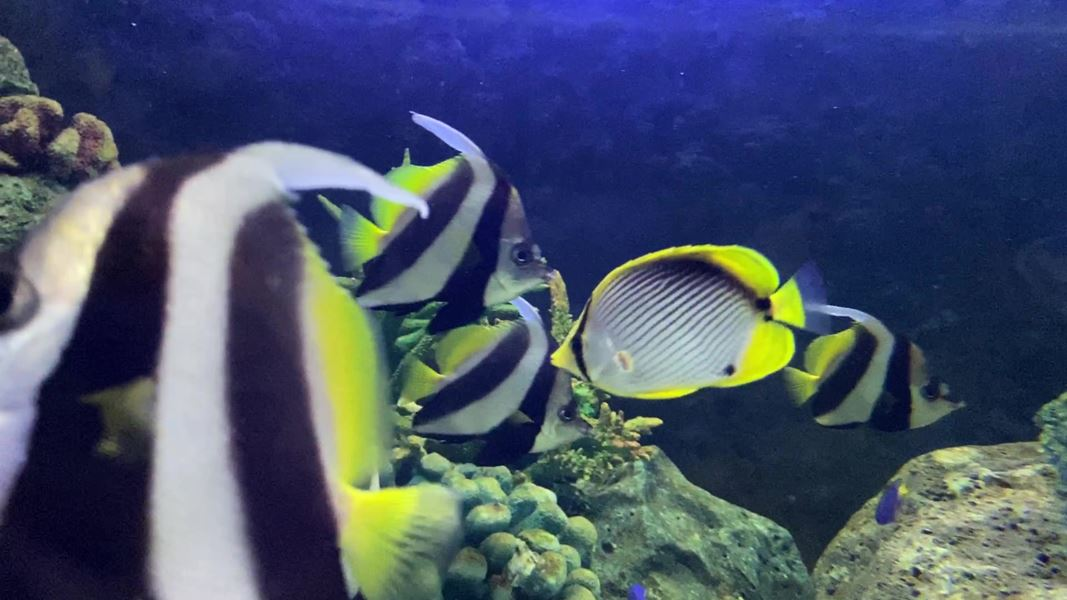Black-backed butterflyfish: (540, 229, 844, 412)
